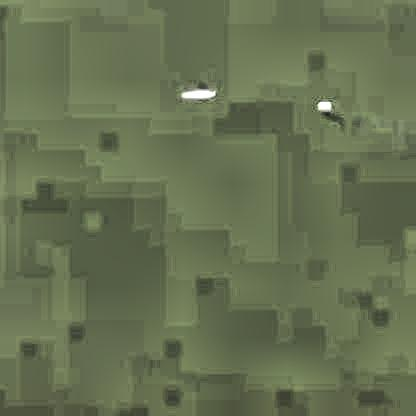golfball: (314, 97, 329, 112)
